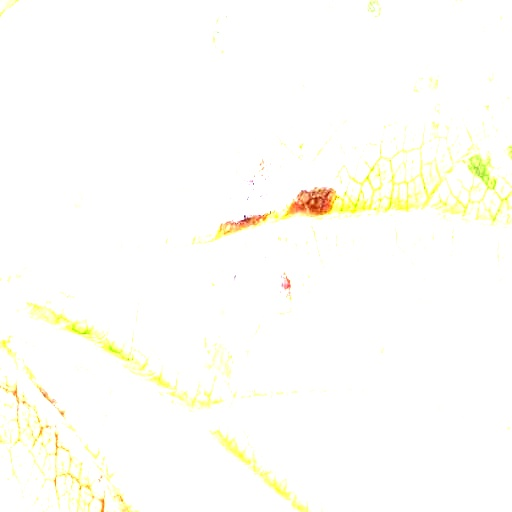Angular Leafspot: (0, 0, 511, 511)
